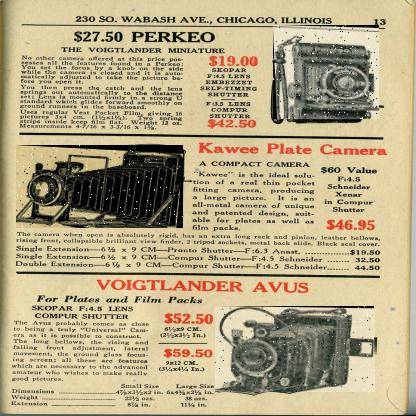Camera: (17, 146, 185, 230), (217, 307, 379, 394), (274, 26, 381, 121)
